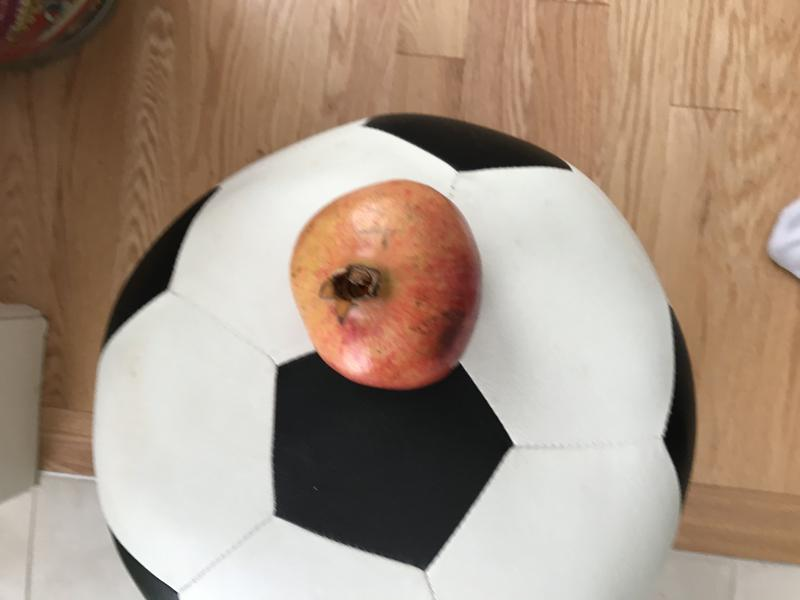pomegranate: (281, 165, 494, 398)
